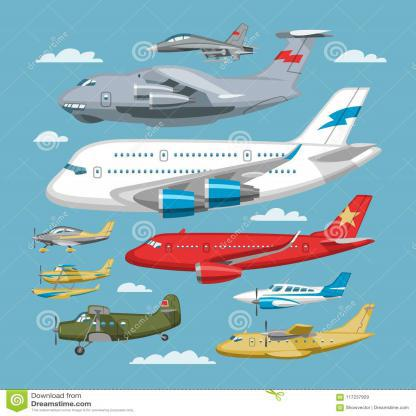CIV_Plane: (36, 89, 383, 217), (117, 193, 377, 285), (60, 38, 318, 123), (216, 300, 376, 364), (49, 294, 182, 352), (230, 270, 352, 308)
